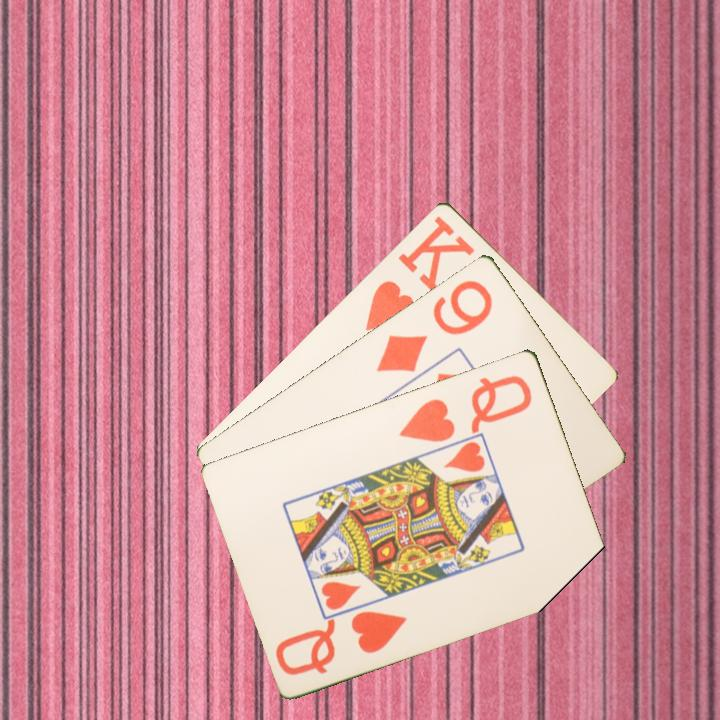9d: (372, 275, 496, 375)
Kh: (361, 211, 478, 334)
Qh: (396, 371, 536, 445), (272, 606, 411, 678)
